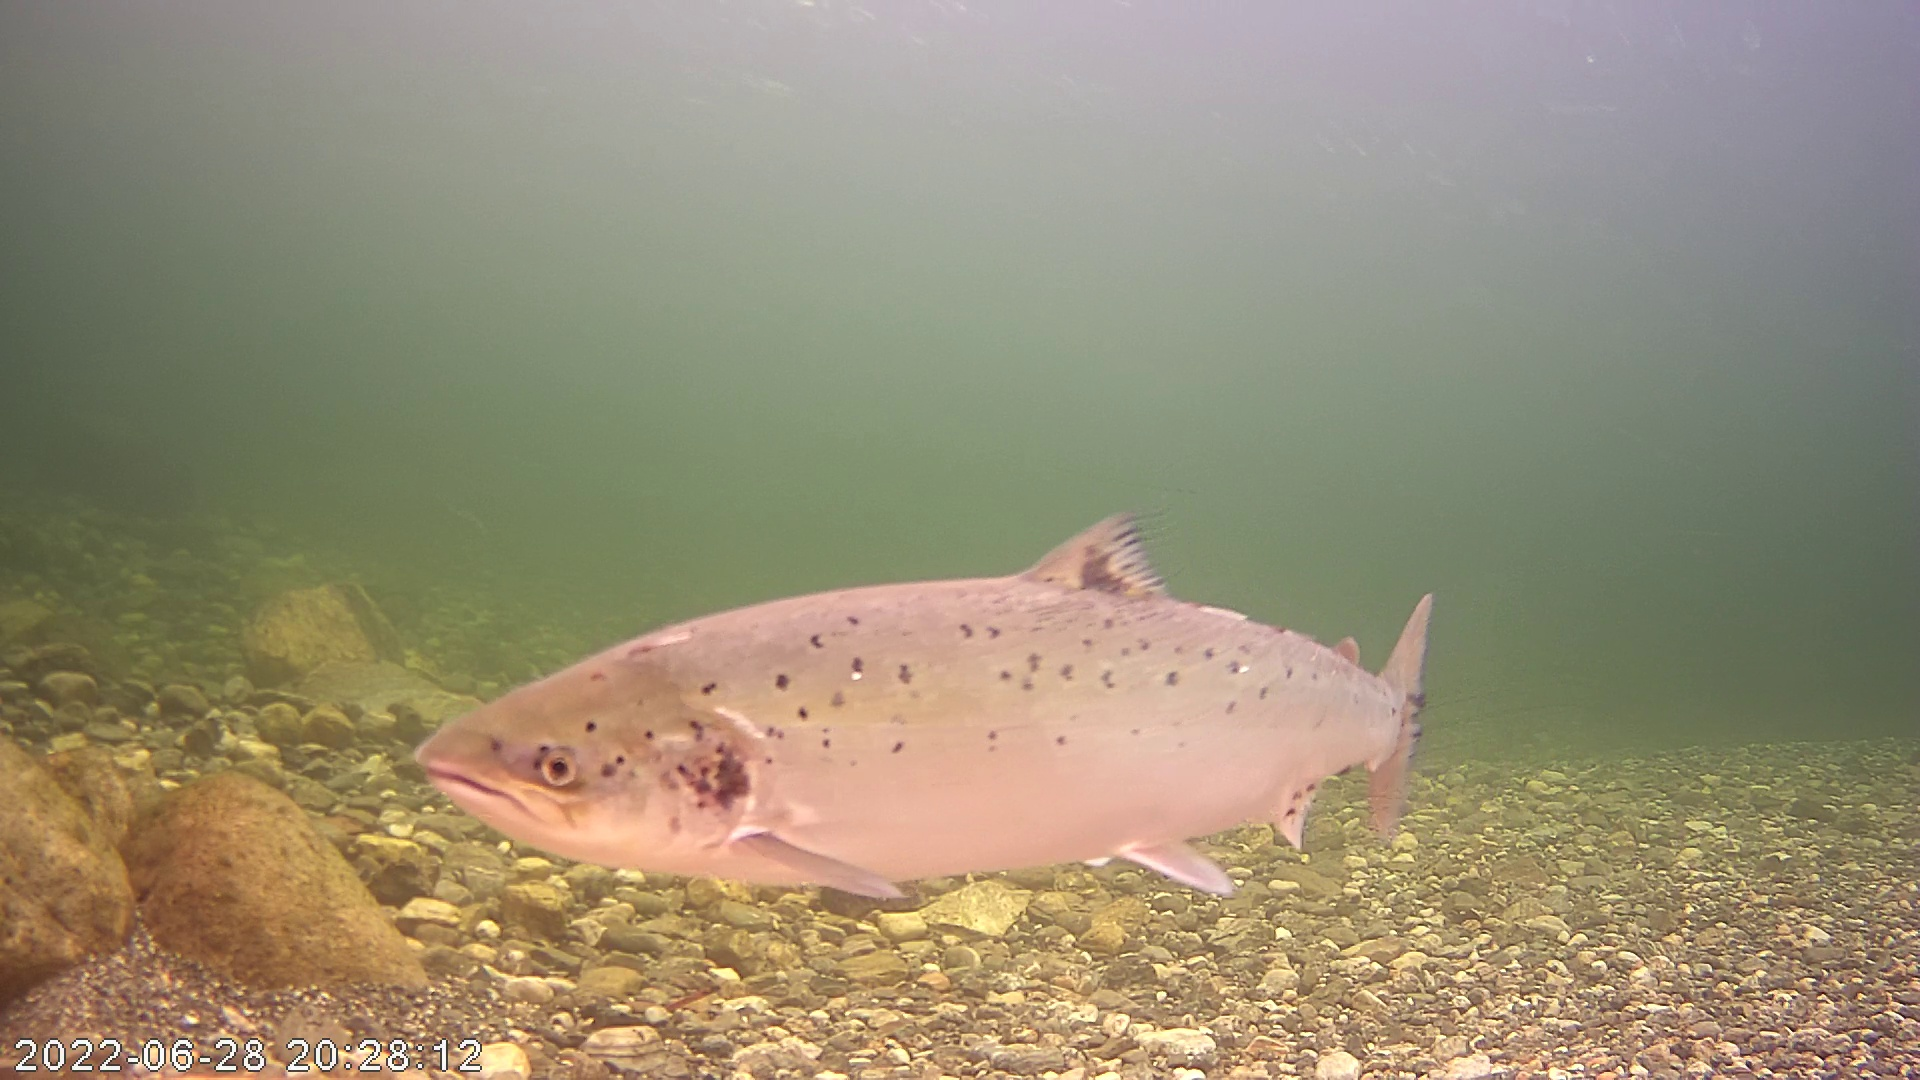salmon: (389, 500, 1443, 906)
